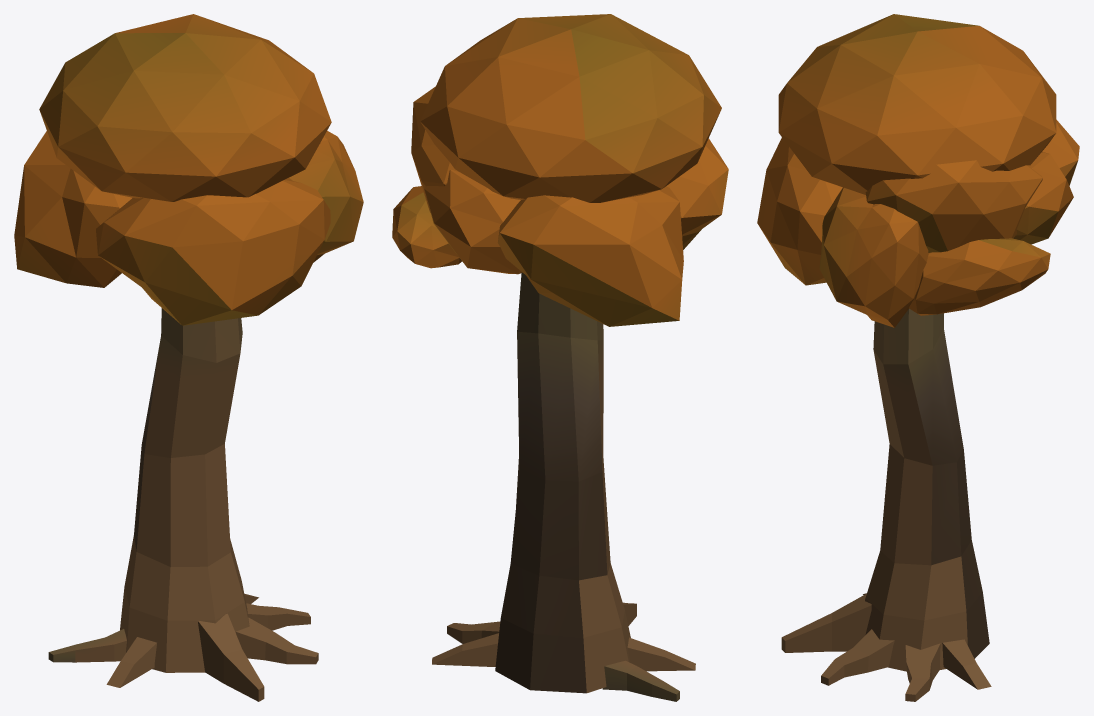
The model's file is Tree2_Autumn.fbx.
3 views of the same model, side by side, from view 1: azimuth 30°, elevation 25°; view 2: azimuth 150°, elevation 25°; view 3: azimuth 270°, elevation 25° (orthographic). The views are drawn at different scales.
Parts seen in each view (by area): view 1: Tree1.002; view 2: Tree1.002; view 3: Tree1.002.
Part boxes in pixels (x1,y1,x2,y2): Tree1.002: (14,14,363,701); Tree1.002: (392,14,728,701); Tree1.002: (757,14,1079,701).
Bounding box in the file's own units: 303 × 629 × 299.
